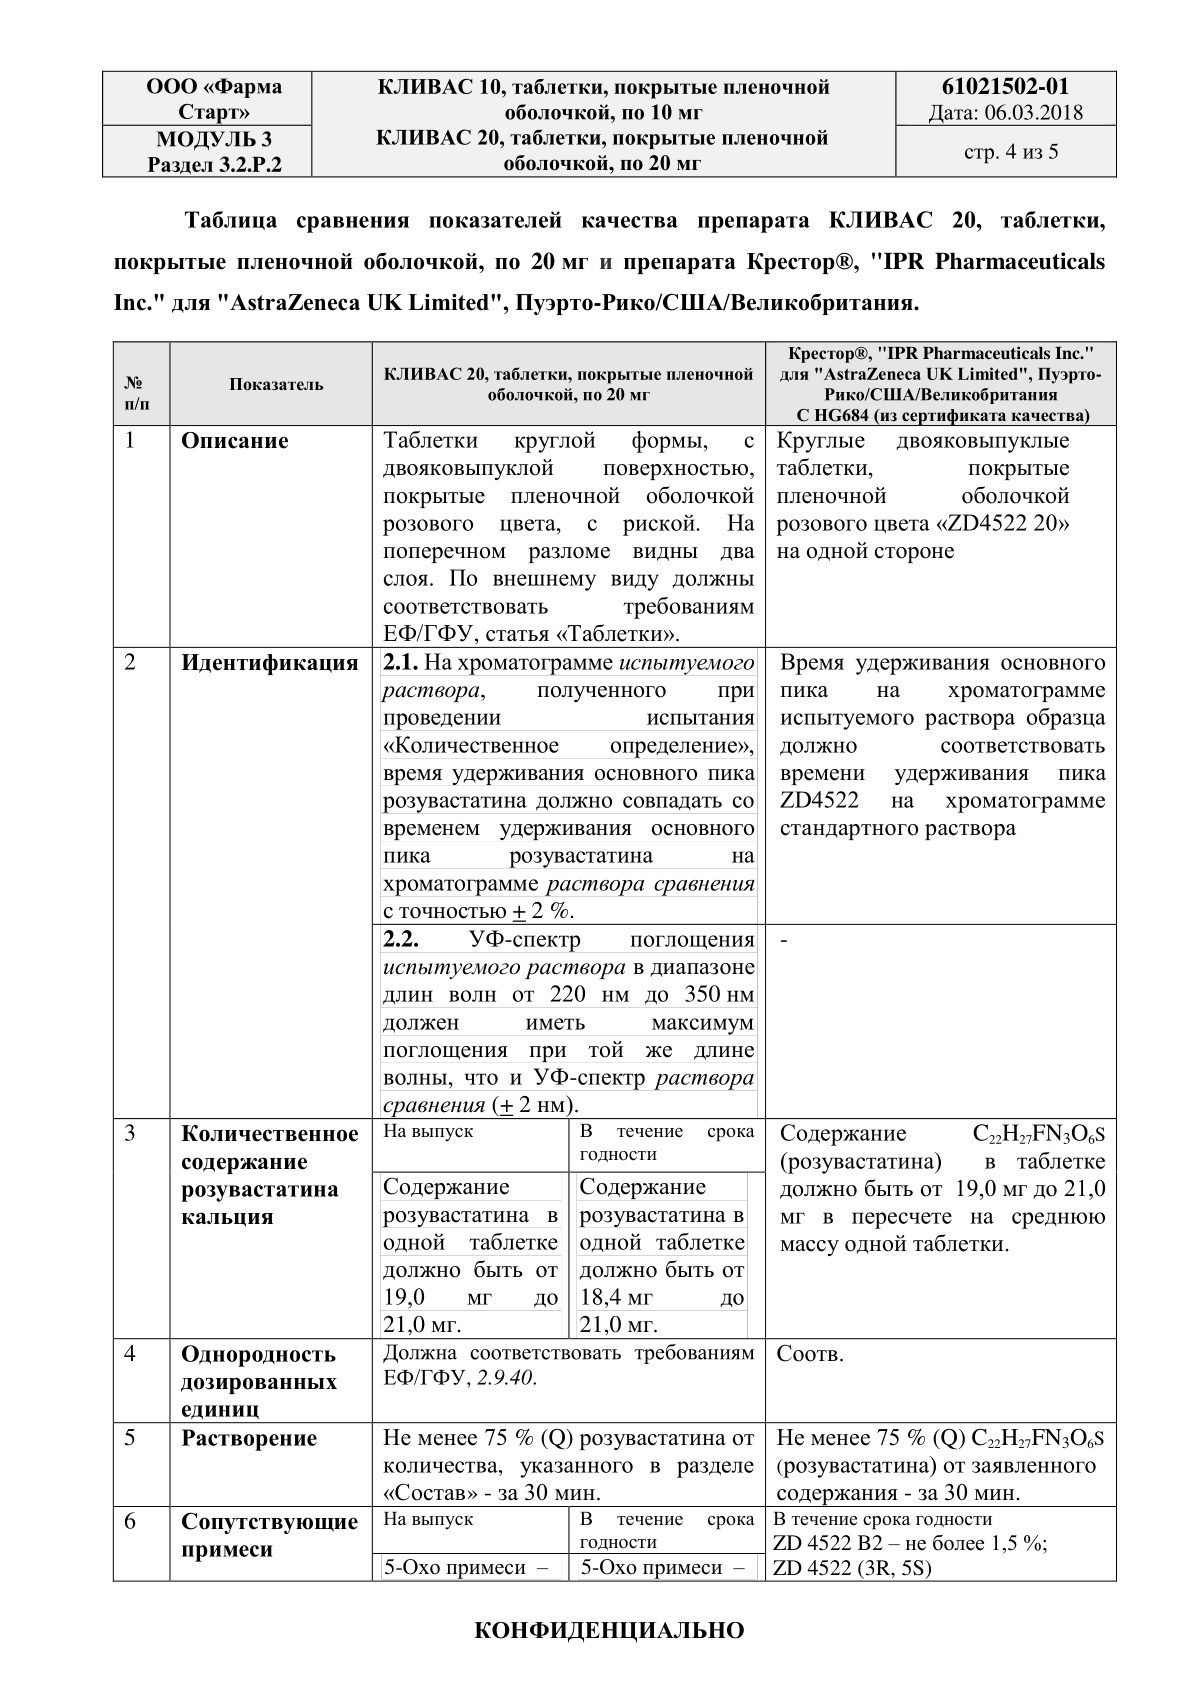merged_cells: (110, 339, 1118, 1584), (101, 70, 1119, 178)
